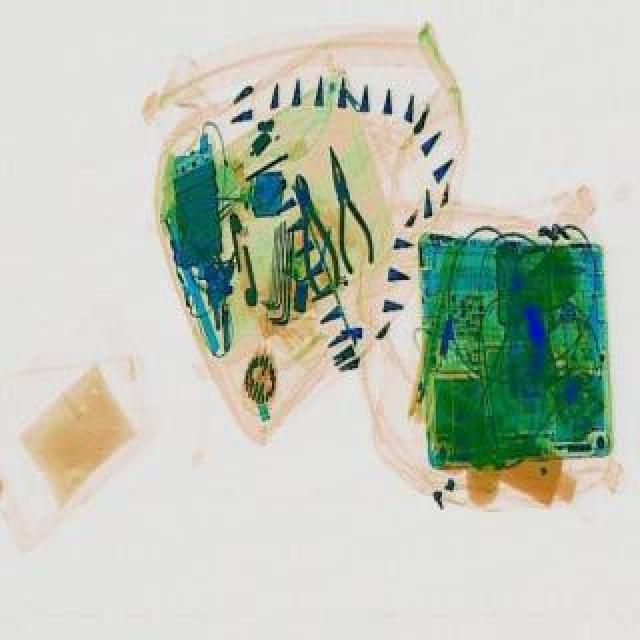wrench: (312, 140, 380, 272), (284, 170, 340, 294)
